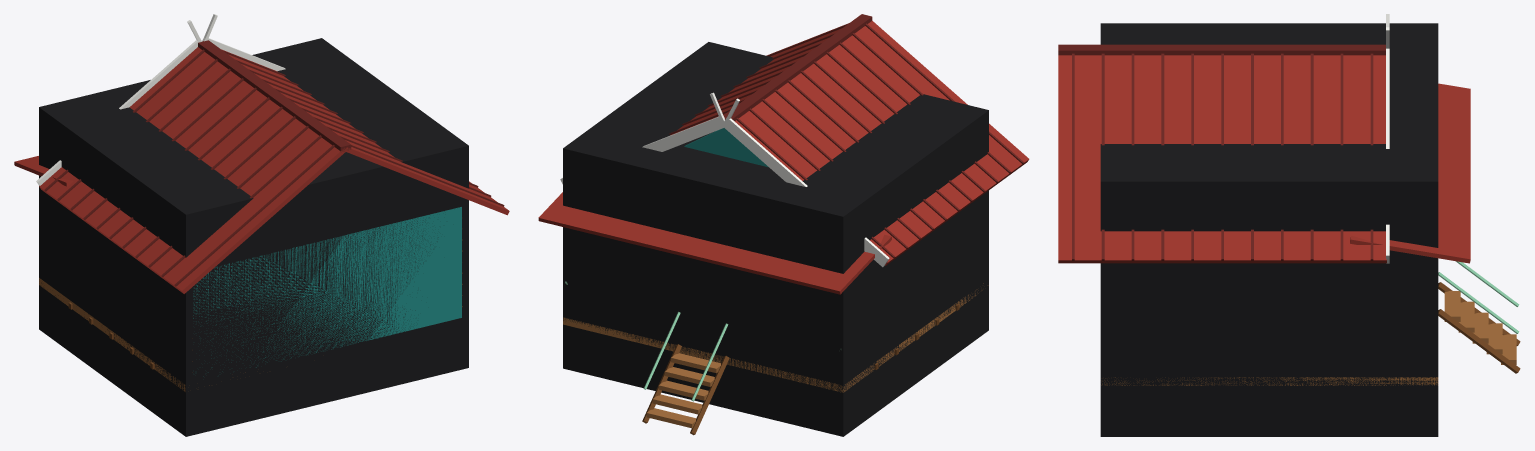
File: env_kb_house_teal.fbx
3 views of the same model, side by side, from view 1: azimuth 30°, elevation 25°; view 2: azimuth 150°, elevation 25°; view 3: azimuth 270°, elevation 25° (orthographic). The views are drawn at different scales.
Visible parts, largest first — view 1: COL_env_kb_house_teal, env_kb_house_teal_geo_LOD0; view 2: COL_env_kb_house_teal, env_kb_house_teal_geo_LOD0; view 3: COL_env_kb_house_teal, env_kb_house_teal_geo_LOD0.
Part boxes in pixels (x1,y1,x2,y2): COL_env_kb_house_teal: (39,38,468,436); env_kb_house_teal_geo_LOD0: (14,14,509,391); COL_env_kb_house_teal: (563,42,988,436); env_kb_house_teal_geo_LOD0: (538,14,1029,435); COL_env_kb_house_teal: (1100,23,1438,436); env_kb_house_teal_geo_LOD0: (1058,14,1520,385).
Size of what is drawn, in the model's own units: 9.36 by 7.98 by 9.85.
